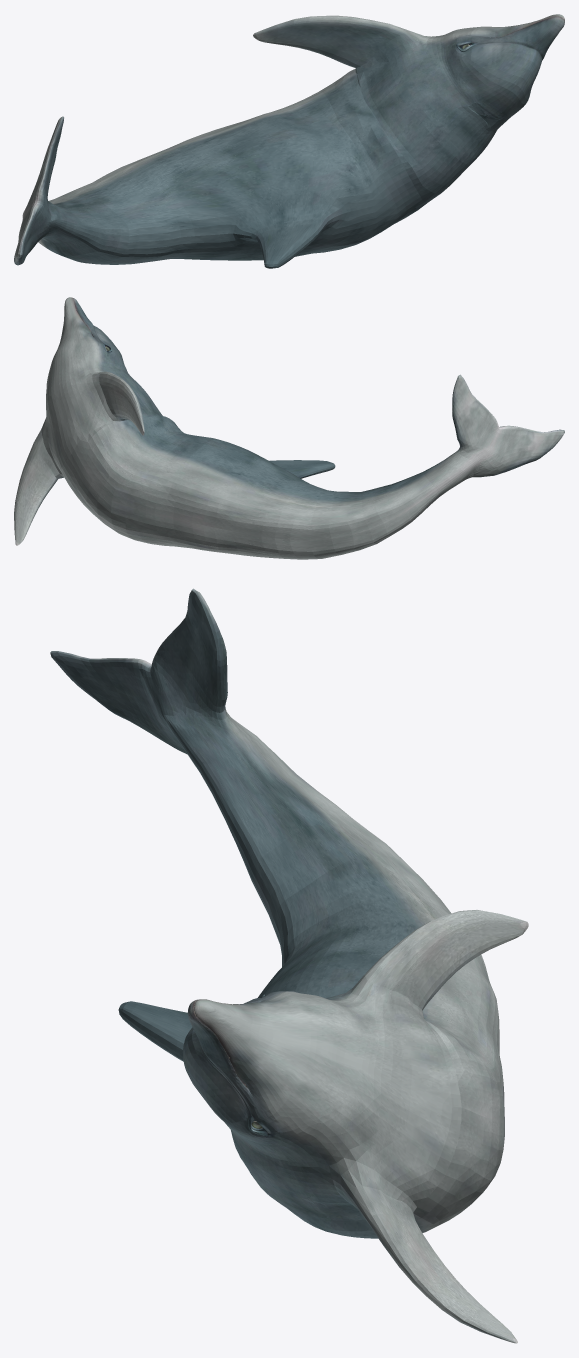
Rendered from dolphin.glb.
The picture shows the model from 3 angles, top to bottom: view 1: azimuth 30°, elevation 25°; view 2: azimuth 150°, elevation 25°; view 3: azimuth 270°, elevation 25°; orthographic projection. The views are drawn at different scales.
Visible parts, largest first — view 1: dolphin; view 2: dolphin; view 3: dolphin.
Boxes of the visible parts, left/top/right/bottom form: dolphin: left=14, top=14, right=564, bottom=268; dolphin: left=14, top=297, right=564, bottom=559; dolphin: left=50, top=588, right=528, bottom=1343.
Size of the model in its own units: 1 by 0.4141 by 0.4486.
Materials: 6 (6 with a texture image).
